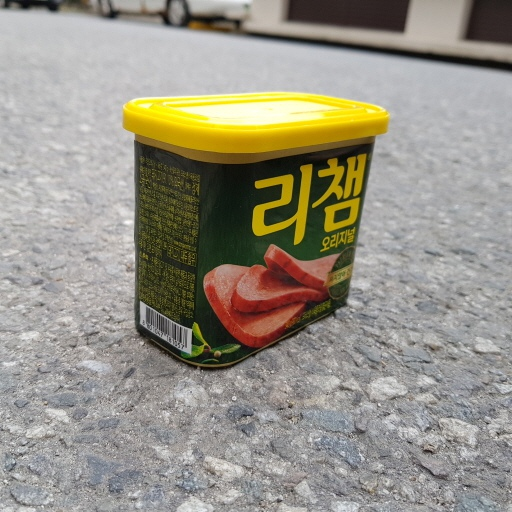Metal_2: (115, 89, 391, 368)
